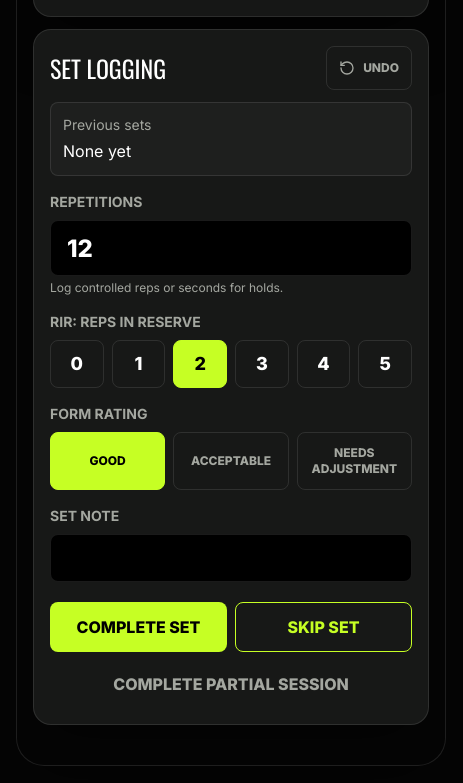
Test: Phase 3 training flow › logs a set and opens the absolute rest timer state
This screenshot has width=463, height=783.
(page scrolled)
What coordinates should you click on to do the following:
click the button "Complete Set"
I would click on:
 (138, 627)
Its box is [50,602,227,652].
(page scrolled)
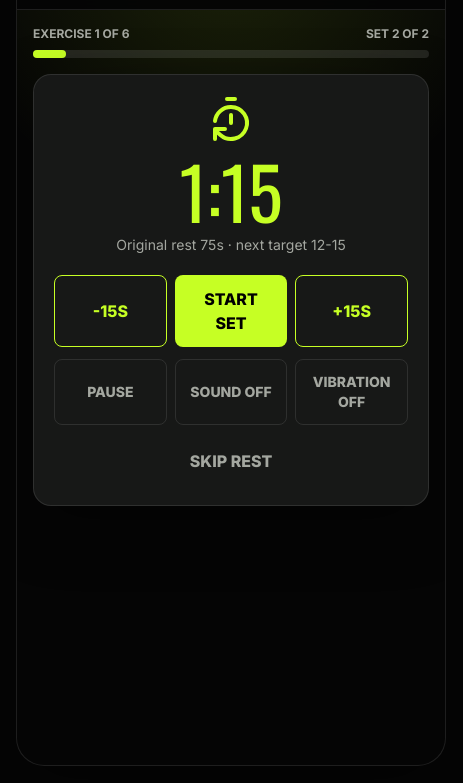
Now the text "Original rest 75s · next target 12-15" is shown, box [116,236,346,253]
Now the button "+15s" is shown, box [295,275,408,347]
Now the button "Start Set" is shown, box [175,275,287,347]
